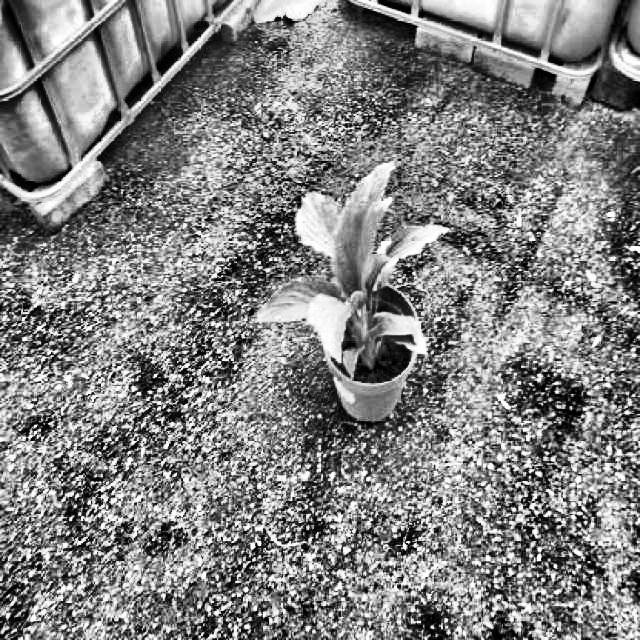plants: (258, 163, 452, 377)
